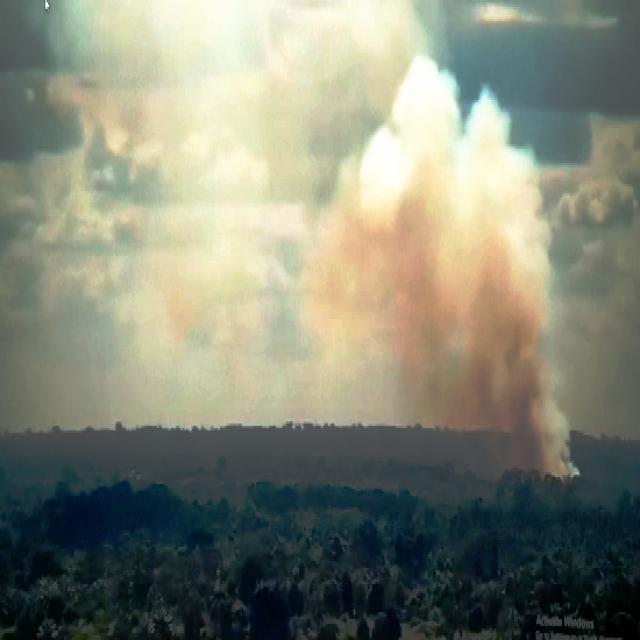asap: (294, 41, 590, 509)
